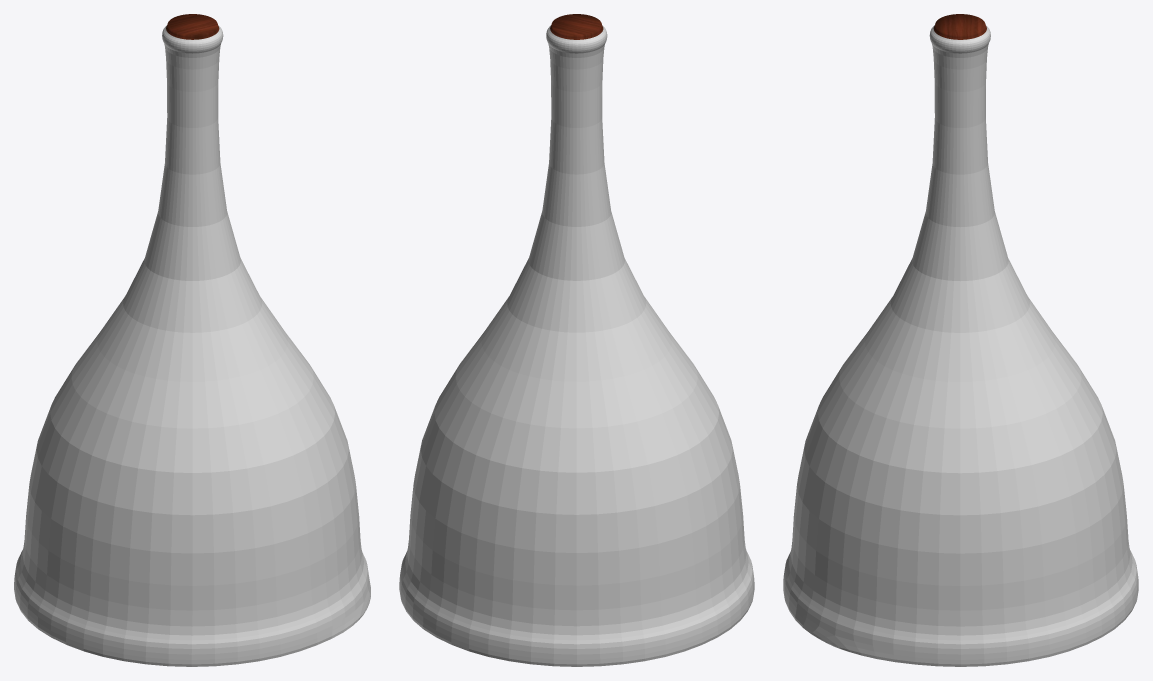
Rendered from bottle3 closed no fill.fbx.
3 views of the same model, side by side, from view 1: azimuth 30°, elevation 25°; view 2: azimuth 150°, elevation 25°; view 3: azimuth 270°, elevation 25° (orthographic).
Visible parts, largest first — view 1: Cylinder.014; view 2: Cylinder.014; view 3: Cylinder.014.
Boxes of the visible parts, x1,y1,x2,y2 form: Cylinder.014: (14,14,370,666); Cylinder.014: (399,14,754,666); Cylinder.014: (783,14,1138,666).
Size of the model in its own units: 24.73 by 43.72 by 24.73.
2 materials, 1 textured.
